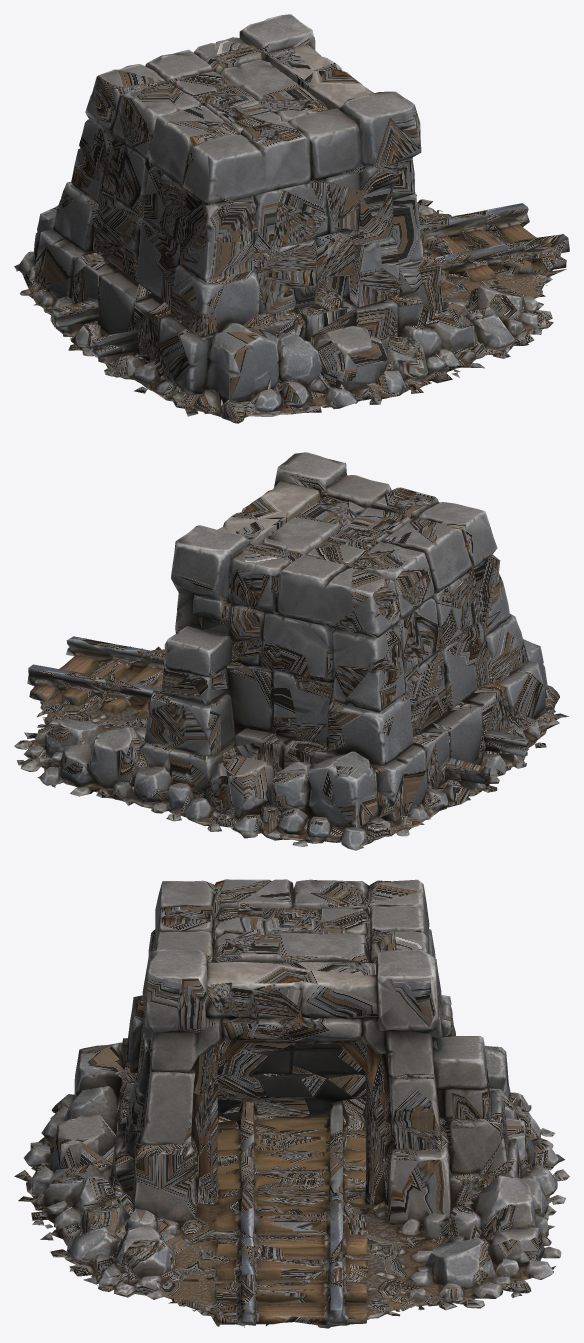
Rendered from stone_mine_tunnel_05.glb.
The picture shows the model from 3 angles, top to bottom: view 1: azimuth 30°, elevation 25°; view 2: azimuth 150°, elevation 25°; view 3: azimuth 270°, elevation 25°; orthographic projection. The views are drawn at different scales.
Parts seen in each view (by area): view 1: tripo_node_32ceaa1e-463f-472a-8c7a-4f3b43e25e50; view 2: tripo_node_32ceaa1e-463f-472a-8c7a-4f3b43e25e50; view 3: tripo_node_32ceaa1e-463f-472a-8c7a-4f3b43e25e50.
Part boxes in pixels (x1,y1,x2,y2): tripo_node_32ceaa1e-463f-472a-8c7a-4f3b43e25e50: (14, 14, 569, 423); tripo_node_32ceaa1e-463f-472a-8c7a-4f3b43e25e50: (14, 452, 569, 850); tripo_node_32ceaa1e-463f-472a-8c7a-4f3b43e25e50: (14, 879, 569, 1328).
Bounding box in the file's own units: 0.9856 × 0.4642 × 0.906.
1 material, 1 textured.
